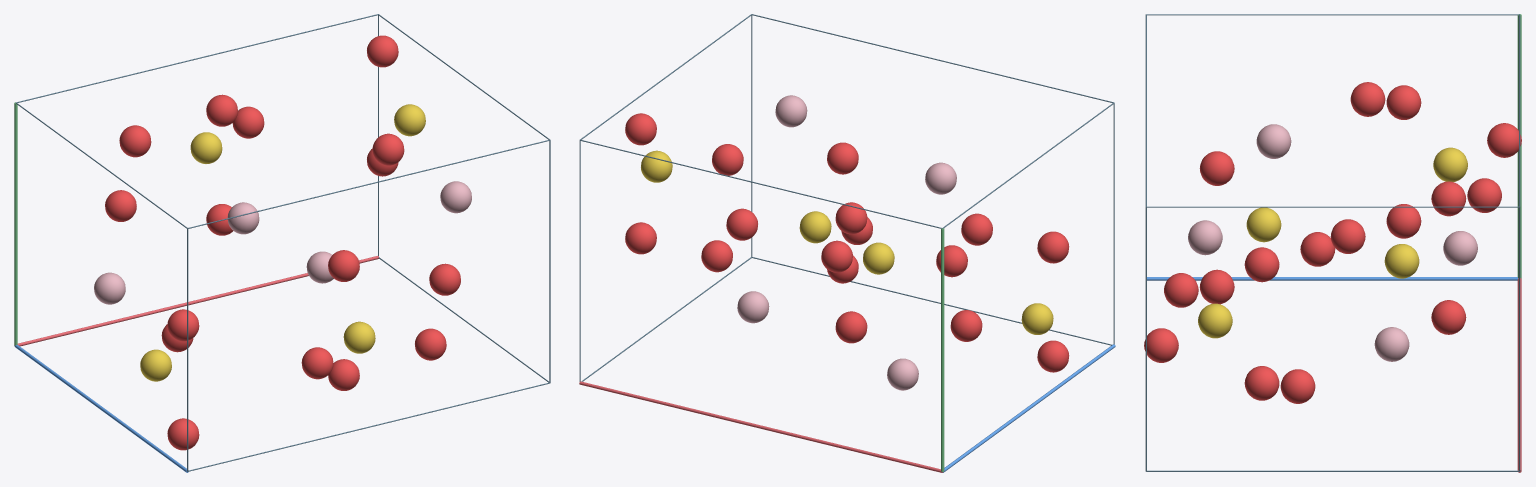
File: celestine.glb
3 renders of one model, left to right at view 1: azimuth 30°, elevation 25°; view 2: azimuth 150°, elevation 25°; view 3: azimuth 270°, elevation 25°, orthographic. The views are drawn at different scales.
Parts seen in each view (by area): view 1: Ô mạng và các trục a, b, c, O3 · O · 1 (×7), S · S · 1 (×4), O1 · O · 1 (×4), Sr · Sr · 1 (×4), O2 · O · 1 (×3); view 2: Ô mạng và các trục a, b, c, O3 · O · 1 (×7), Sr · Sr · 1 (×4), S · S · 1 (×4), O1 · O · 1 (×4), O2 · O · 1 (×3); view 3: O3 · O · 1 (×8), Ô mạng và các trục a, b, c, S · S · 1 (×4), O1 · O · 1 (×4), Sr · Sr · 1 (×4), O2 · O · 1 (×4).
Boxes of the visible parts, box(x1,y1,x2,y2) form: Ô mạng và các trục a, b, c: box(14, 14, 550, 472); O3 · O · 1 (×7): box(167, 35, 398, 450); S · S · 1 (×4): box(140, 104, 425, 381); O1 · O · 1 (×4): box(105, 106, 460, 379); Sr · Sr · 1 (×4): box(94, 181, 471, 304); O2 · O · 1 (×3): box(119, 125, 446, 360); Ô mạng và các trục a, b, c: box(579, 14, 1115, 472); O3 · O · 1 (×7): box(625, 113, 1069, 372); Sr · Sr · 1 (×4): box(737, 95, 956, 390); S · S · 1 (×4): box(641, 150, 1053, 334); O1 · O · 1 (×4): box(701, 208, 992, 277); O2 · O · 1 (×3): box(712, 144, 982, 341); O3 · O · 1 (×8): box(1199, 85, 1466, 400); Ô mạng và các trục a, b, c: box(1145, 14, 1521, 472); S · S · 1 (×4): box(1198, 147, 1467, 338); O1 · O · 1 (×4): box(1164, 82, 1501, 403); Sr · Sr · 1 (×4): box(1188, 124, 1477, 361); O2 · O · 1 (×4): box(1144, 123, 1521, 362).
Bounding box in the file's own units: 8.41 × 5.72 × 6.94.
